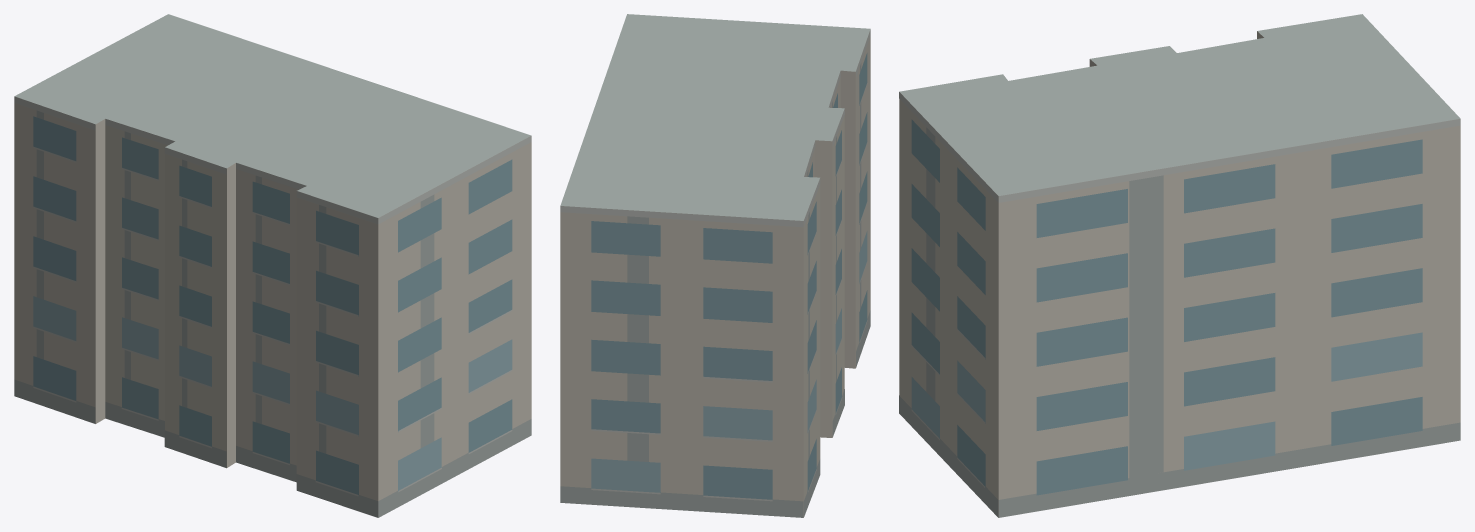
Rendered from survey-upis-32884325.glb.
3 views of the same model, side by side, from view 1: azimuth 30°, elevation 25°; view 2: azimuth 150°, elevation 25°; view 3: azimuth 270°, elevation 25° (orthographic). The views are drawn at different scales.
Parts seen in each view (by area): view 1: survey-upis-32884325.tmp; view 2: survey-upis-32884325.tmp; view 3: survey-upis-32884325.tmp.
Boxes of the visible parts, left/top/right/bottom form: survey-upis-32884325.tmp: left=14, top=14, right=531, bottom=517; survey-upis-32884325.tmp: left=560, top=14, right=870, bottom=517; survey-upis-32884325.tmp: left=899, top=14, right=1460, bottom=517.
Bounding box in the file's own units: 13.98 × 11.5 × 18.2.
